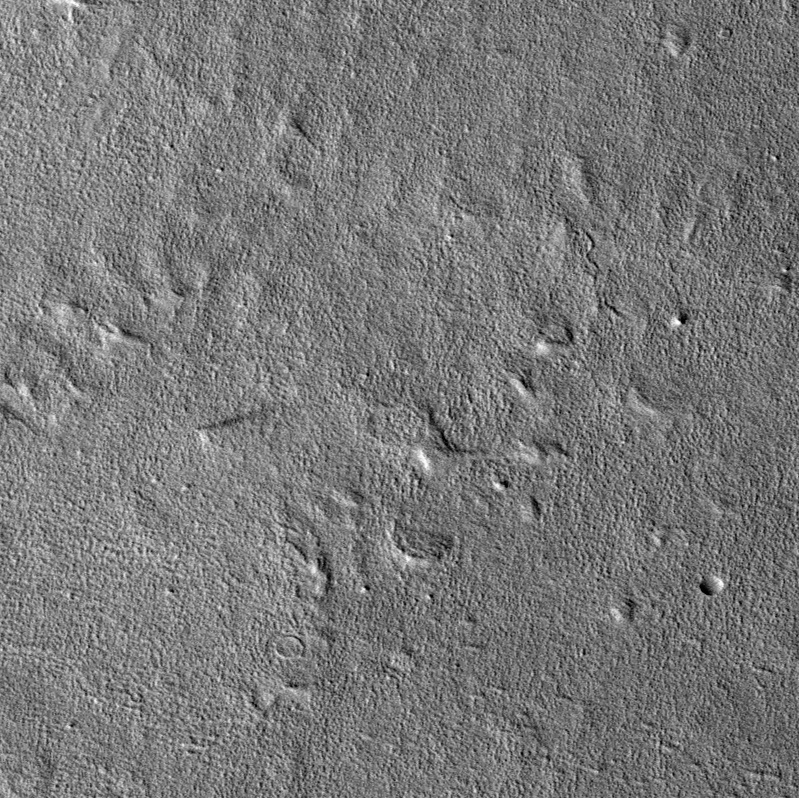dust_devil: (189, 405, 281, 451), (413, 443, 480, 473)
